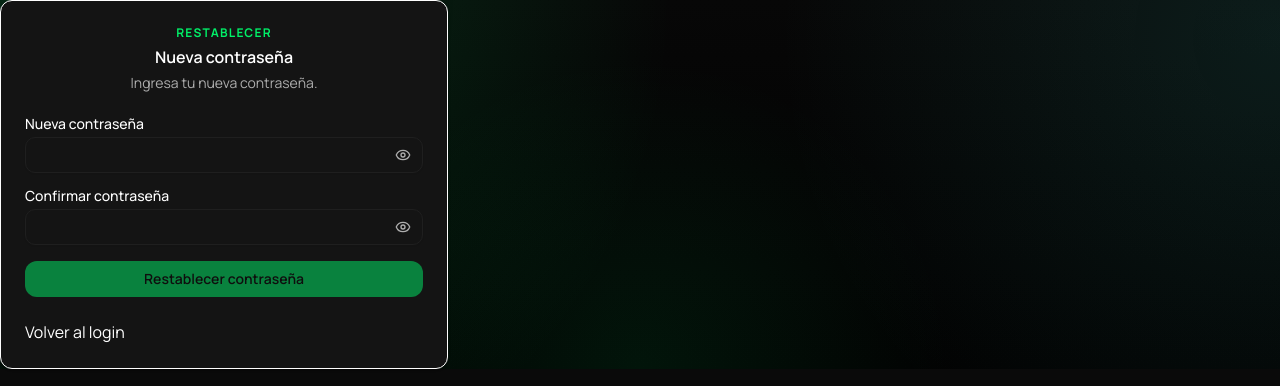
Test case: ResetPasswordPage › disables submit button while loading
This screenshot has width=1280, height=386.
Type "newpassword123" into the password field labelled "Nueva contraseña".
click(224, 155); type("newpassword123")  # box [25,137,423,173]
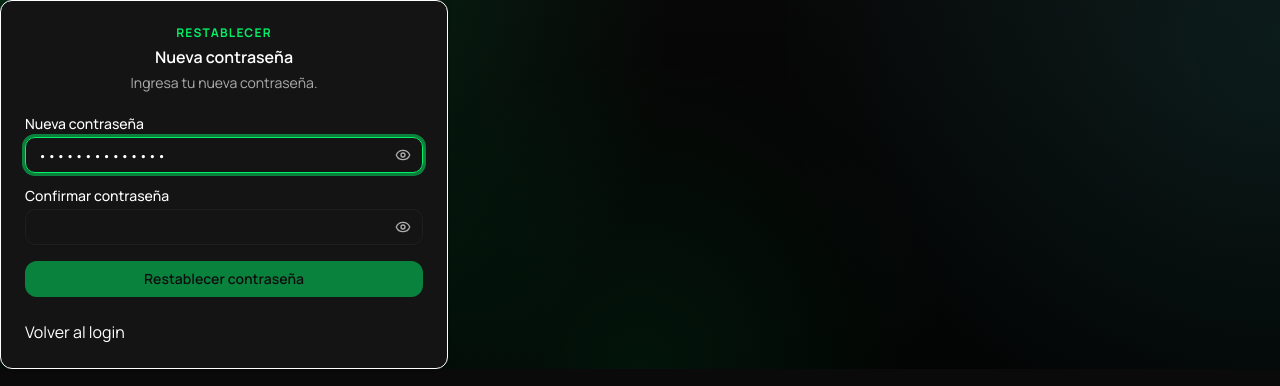
Type "newpassword123" into the password field labelled "Confirmar contraseña".
click(224, 227); type("newpassword123")  # box [25,209,423,245]
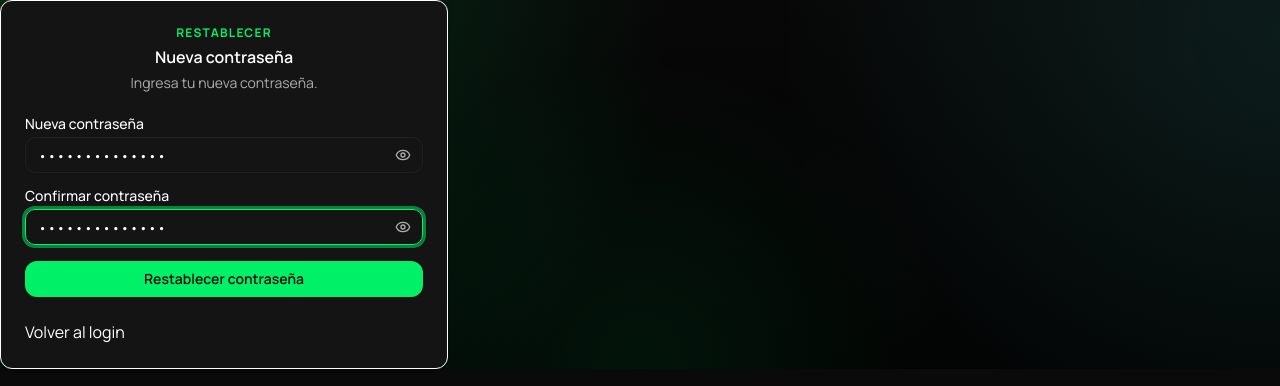
Click the button "Restablecer contraseña".
click(224, 279)  # box [25,261,423,297]
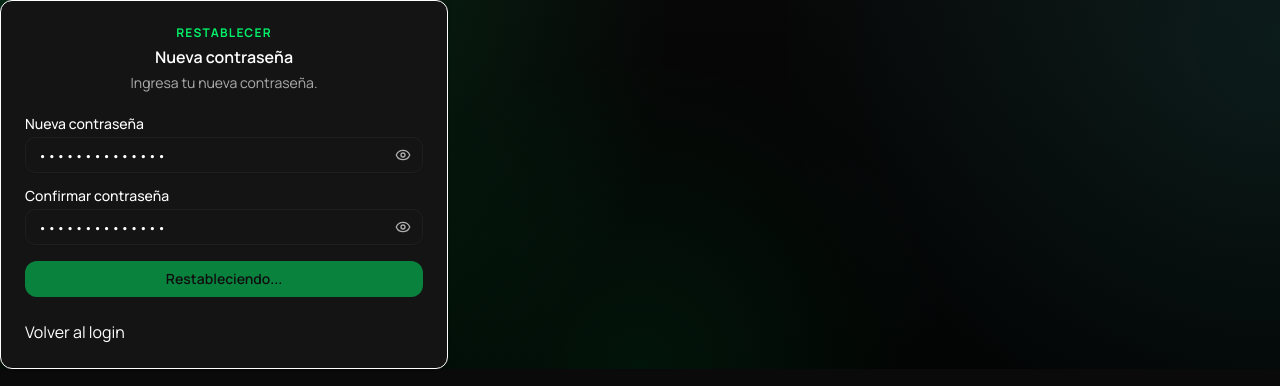
Check: the button "Restableciendo..." is shown, box [25,261,423,297]
